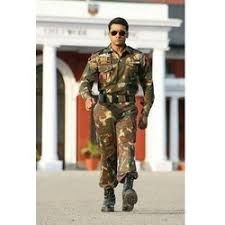uniform: (82, 44, 151, 193)
